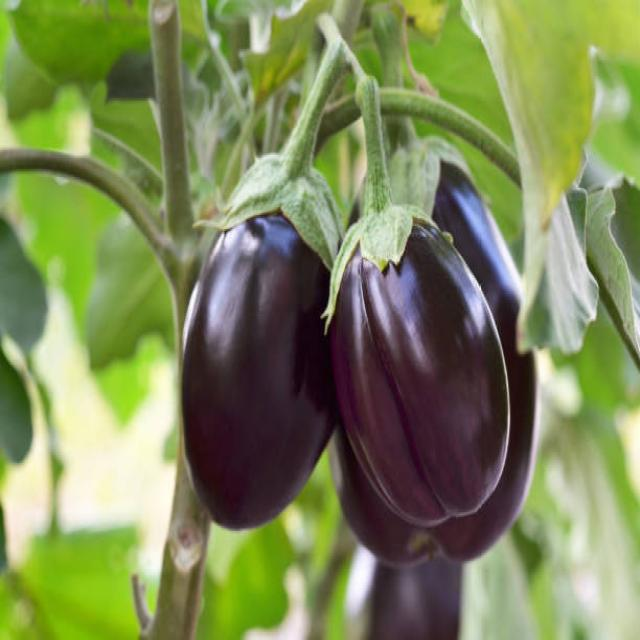eggplant: (180, 162, 350, 529), (333, 189, 509, 530)
